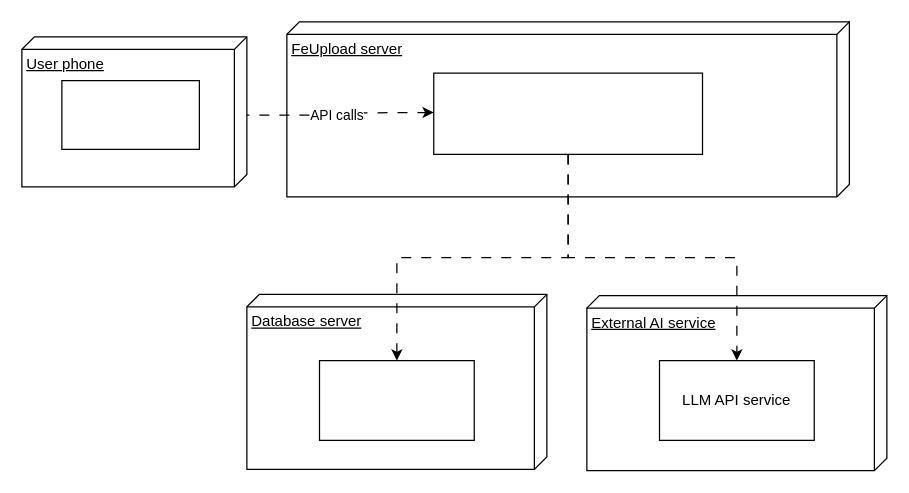
Image size: 909x493. Some labels were removed from this diagram. The shapes that lost their labels are listed below. From the top down, each one's centre as x and y in pixels, then its label:
pixel 130 114: Frontend - APP (react native)
pixel 567 113: Backend - logical services
pixel 396 399: Database
